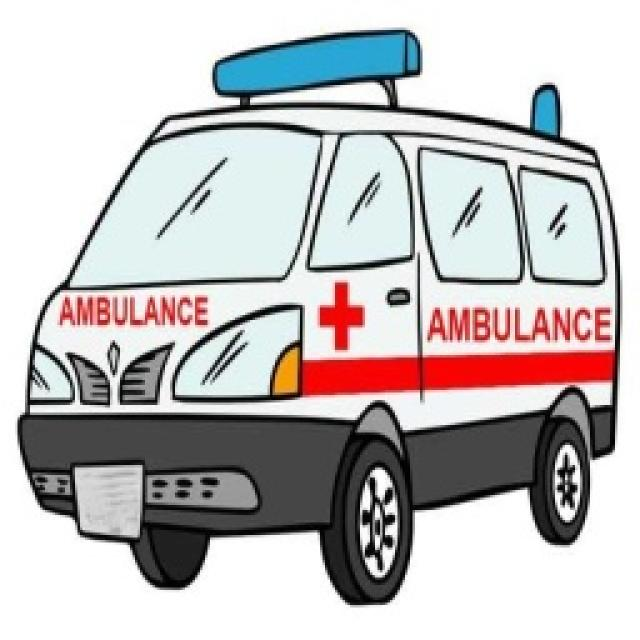ambulance: (5, 0, 640, 612)
